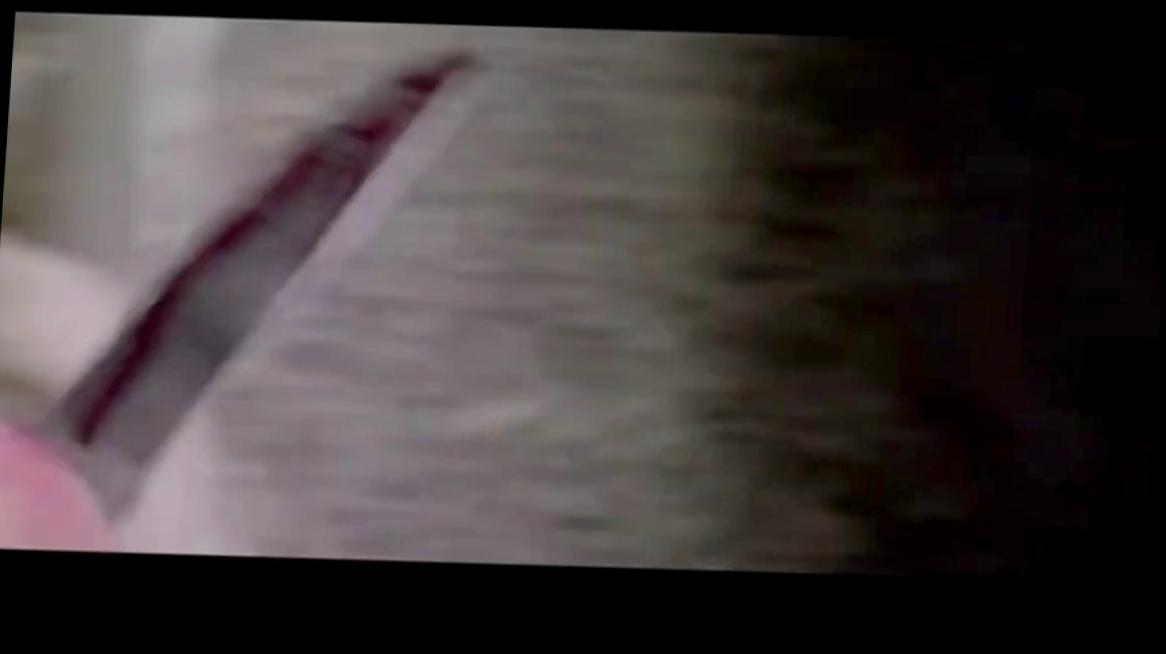Fire: (46, 55, 469, 467)
